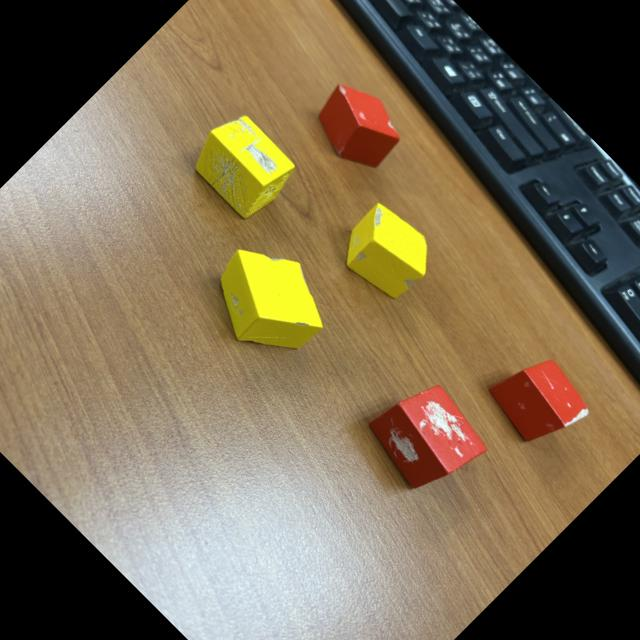broken: (192, 226, 342, 376), (358, 368, 497, 508), (180, 102, 304, 226), (478, 341, 598, 462), (328, 196, 444, 312), (302, 72, 414, 184)
